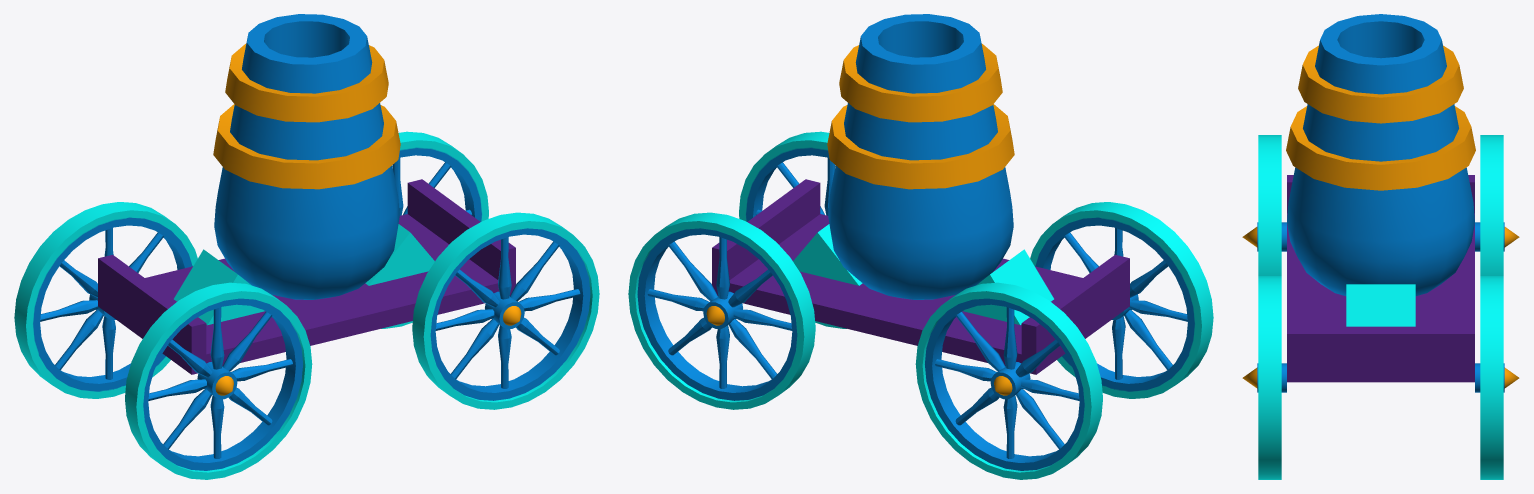
Rendered from Gun02.fbx.
3 renders of one model, left to right at view 1: azimuth 30°, elevation 25°; view 2: azimuth 150°, elevation 25°; view 3: azimuth 270°, elevation 25°, orthographic.
Parts seen in each view (by area): view 1: Cylinder.027, Cylinder.029, Cylinder.017, Plane.006, Plane.007, Cylinder.032; view 2: Cylinder.027, Cylinder.029, Cylinder.017, Plane.006, Plane.007, Cylinder.032; view 3: Cylinder.027, Cylinder.017, Plane.006, Plane.007, Cylinder.029, Cylinder.032.
Part boxes in pixels (x1,y1,x2,y2): Cylinder.027: [213, 14, 400, 299]; Cylinder.029: [14, 202, 312, 479]; Cylinder.017: [381, 131, 599, 409]; Plane.006: [98, 214, 515, 374]; Plane.007: [98, 179, 515, 356]; Cylinder.032: [174, 224, 434, 325]; Cylinder.027: [827, 14, 1014, 299]; Cylinder.029: [915, 202, 1213, 479]; Cylinder.017: [628, 131, 846, 409]; Plane.006: [712, 214, 1129, 374]; Plane.007: [712, 179, 1129, 356]; Cylinder.032: [793, 224, 1053, 325]; Cylinder.027: [1286, 14, 1475, 295]; Cylinder.017: [1242, 276, 1519, 479]; Plane.006: [1287, 213, 1474, 382]; Plane.007: [1287, 175, 1474, 365]; Cylinder.029: [1242, 135, 1519, 275]; Cylinder.032: [1346, 284, 1415, 326].
Bounding box in the file's own units: 572 × 423 × 295.
Materials: 1 (1 with a texture image).
